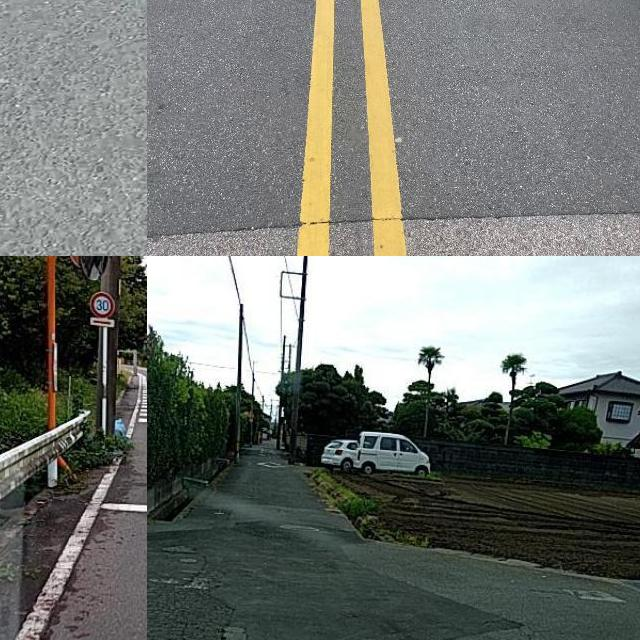Sambungan: (147, 0, 640, 243), (201, 555, 513, 640)
